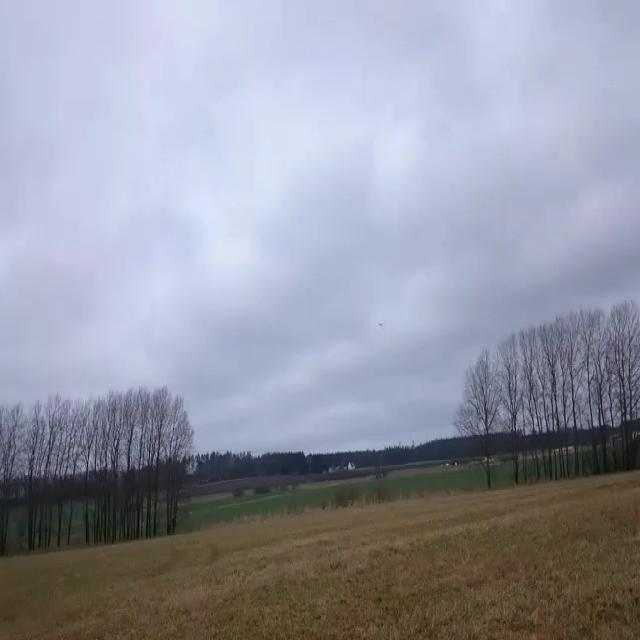drone: (378, 323, 383, 326)
